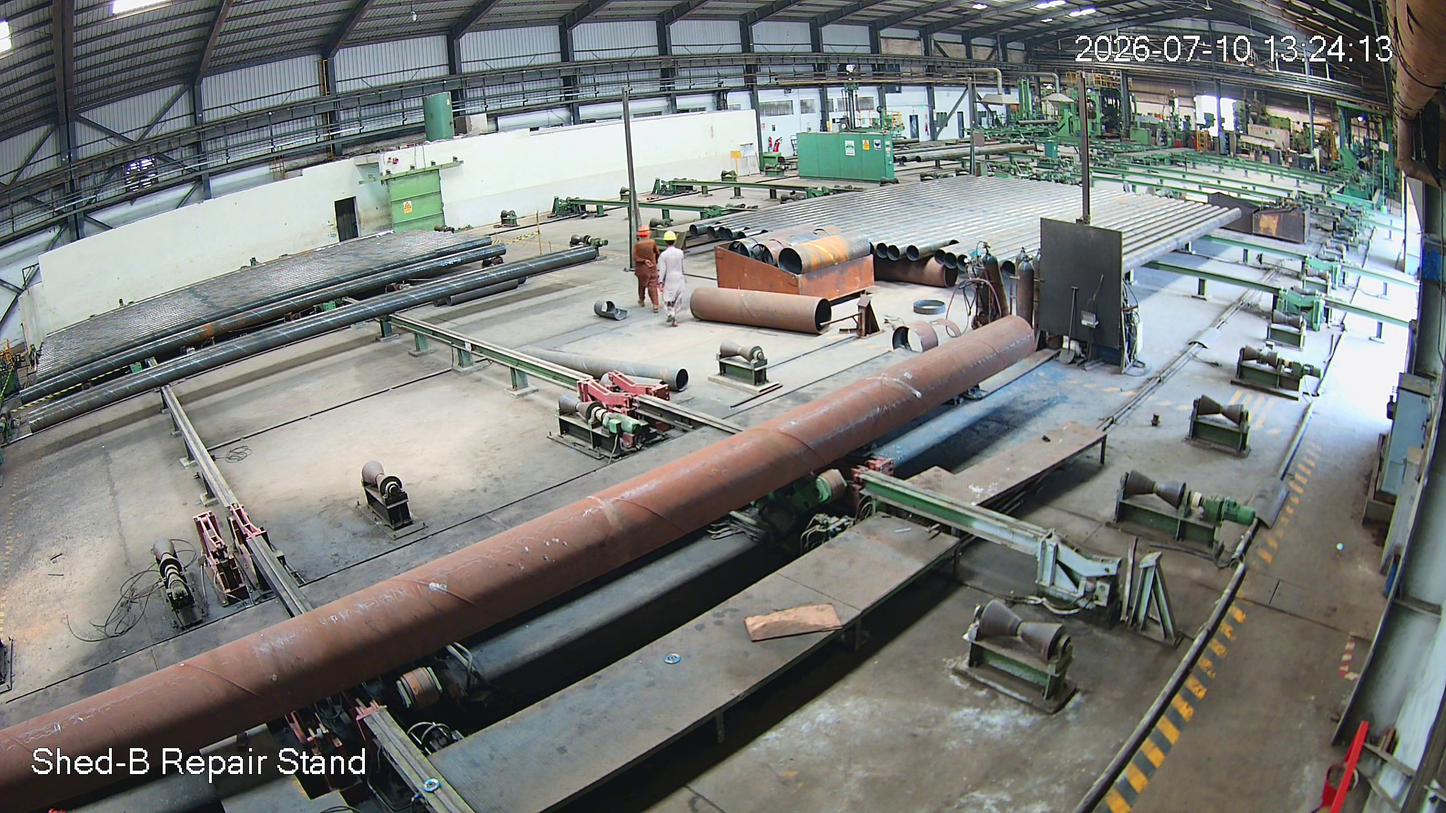Helmet: (662, 226, 684, 256), (632, 221, 655, 247)
Person: (657, 229, 689, 324), (628, 224, 661, 310)
